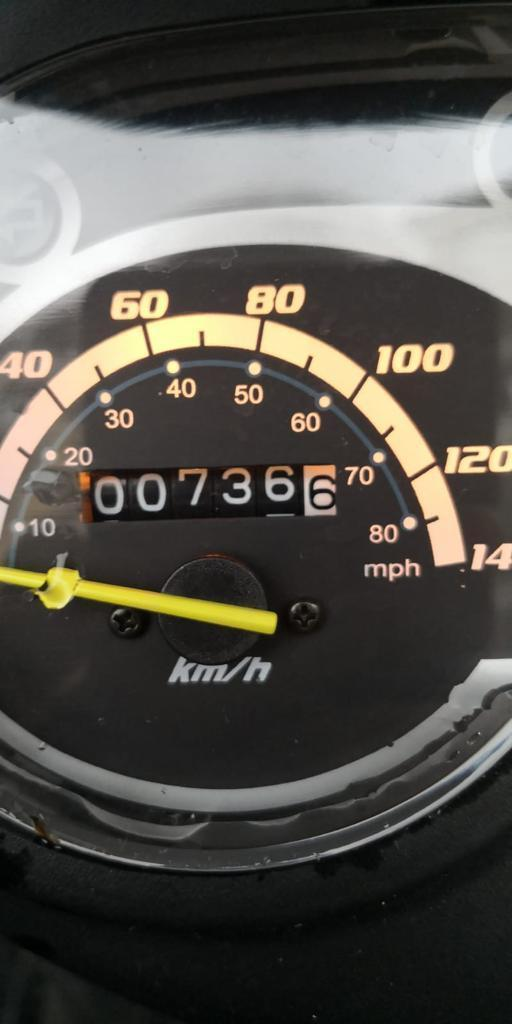0: (91, 473, 126, 520), (134, 470, 169, 517)
3: (222, 466, 254, 510)
6: (264, 463, 298, 507), (305, 472, 338, 515)
7: (177, 465, 210, 512)
odometer: (75, 461, 345, 528)
